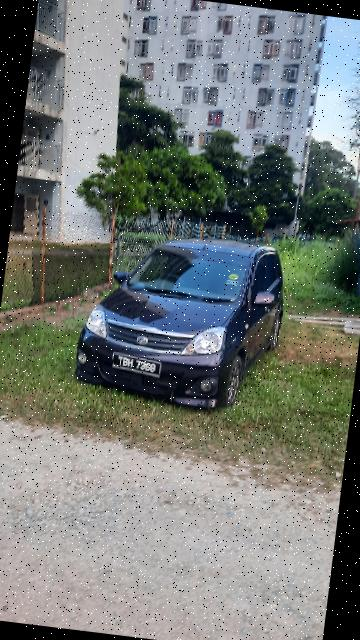License_Plate: (109, 349, 165, 382)
car: (67, 222, 293, 422)
